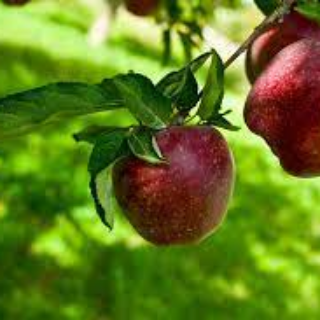tao: (116, 125, 239, 247)
